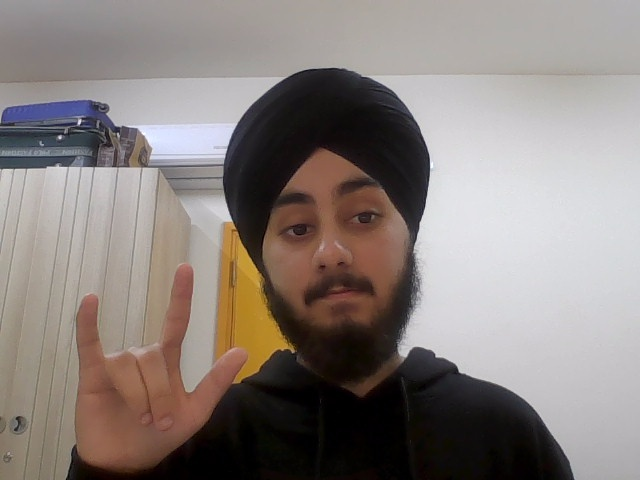ILoveYou: (69, 259, 251, 469)
